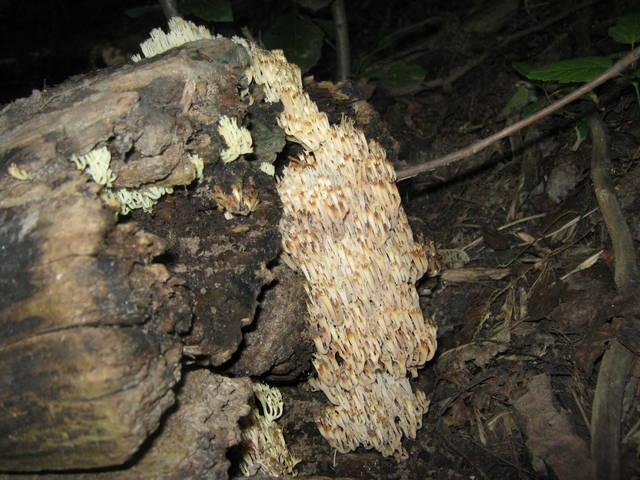Edible Mushroom: (271, 71, 425, 444)
